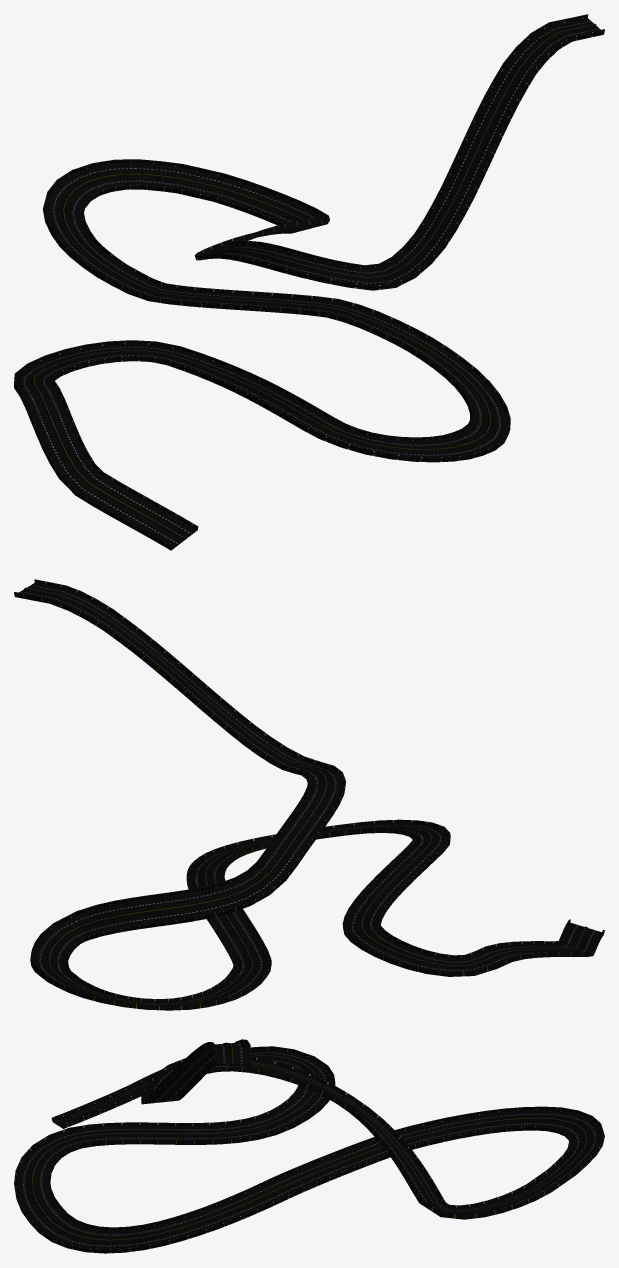
File: Road_texture.fbx
The picture shows the model from 3 angles, top to bottom: view 1: azimuth 30°, elevation 25°; view 2: azimuth 150°, elevation 25°; view 3: azimuth 270°, elevation 25°; orthographic projection. The views are drawn at different scales.
Visible parts, largest first — view 1: Plane; view 2: Plane; view 3: Plane.
Boxes of the visible parts, box(x1,y1,x2,y2) form: Plane: box(14, 14, 604, 550); Plane: box(14, 579, 604, 1010); Plane: box(14, 1039, 604, 1253).
Bounding box in the file's own units: 32441 × 17622 × 32673.
